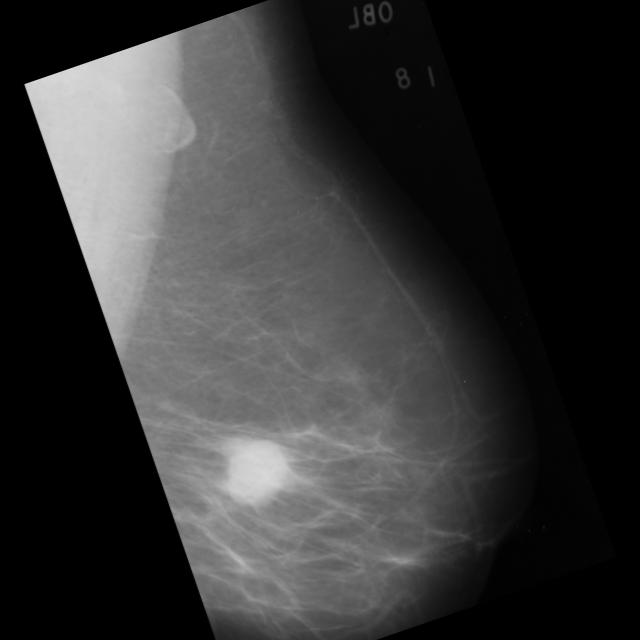CIRC: (0, 64, 236, 551)
